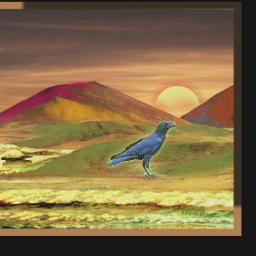Crow: (106, 122, 176, 177)
